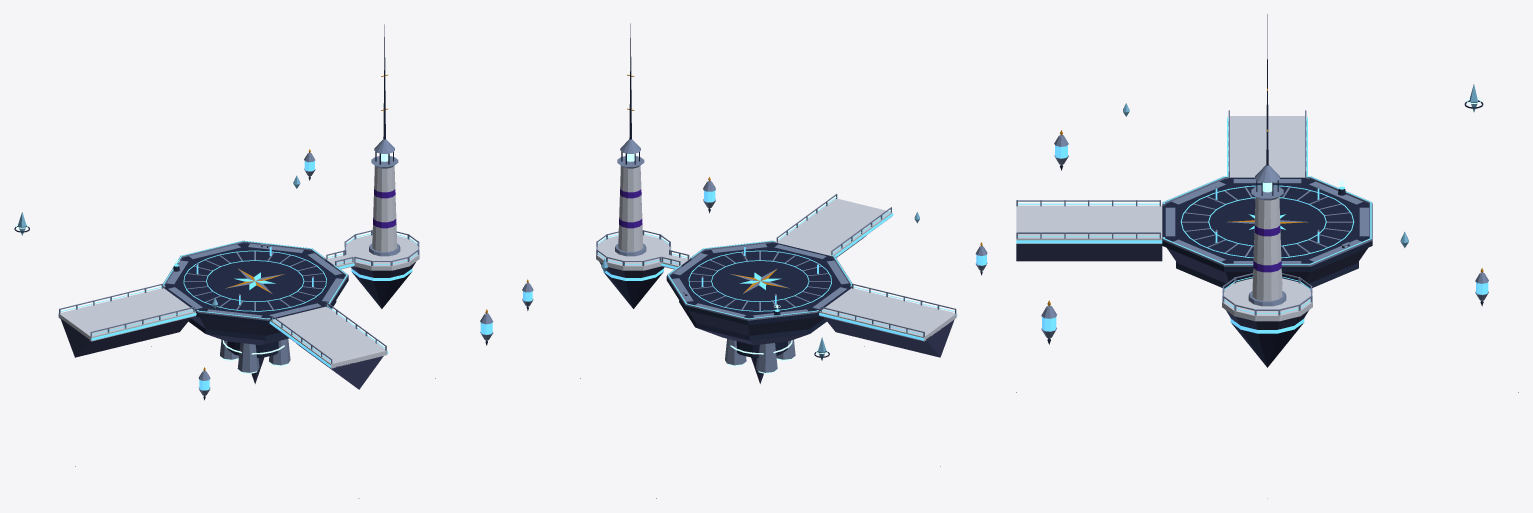
Rendered from chunk_path_bend_west.fbx.
The picture shows the model from 3 angles, left to right: view 1: azimuth 30°, elevation 25°; view 2: azimuth 150°, elevation 25°; view 3: azimuth 270°, elevation 25°; orthographic projection. The views are drawn at different scales.
Visible parts, largest first — view 1: chunk_path_bend_west; view 2: chunk_path_bend_west; view 3: chunk_path_bend_west.
Boxes of the visible parts, x1,y1,x2,y2 form: chunk_path_bend_west: (14,24,493,498); chunk_path_bend_west: (522,23,987,498); chunk_path_bend_west: (1016,14,1518,498).
Size of the model in its own units: 256 by 256 by 256.
